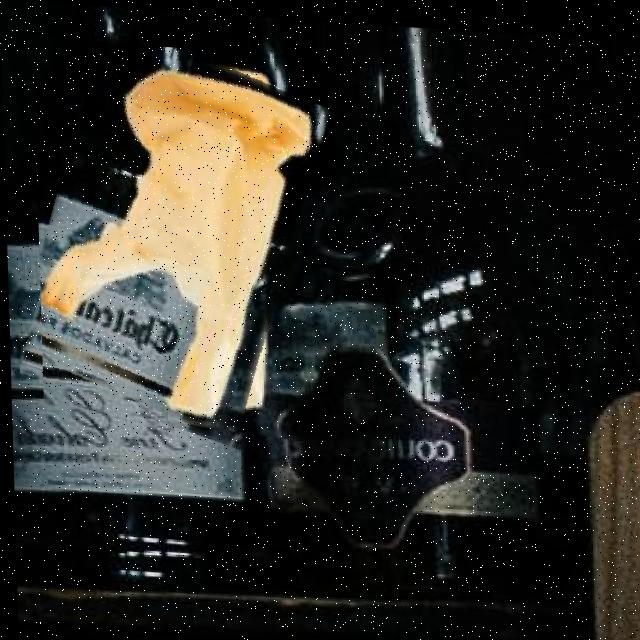litter: (33, 38, 315, 439)
